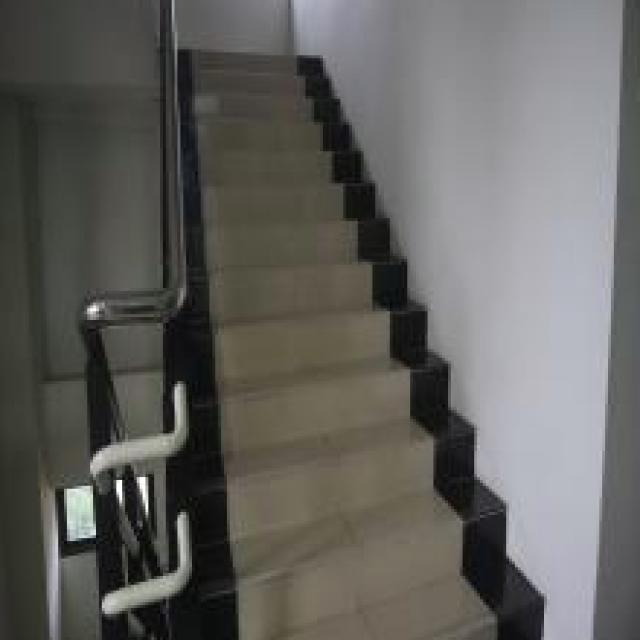upstair: (175, 47, 483, 640)
